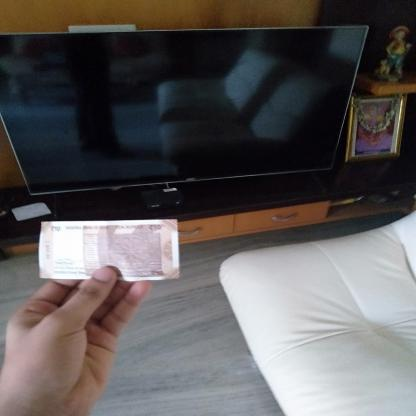New10Back: (40, 222, 176, 282)
